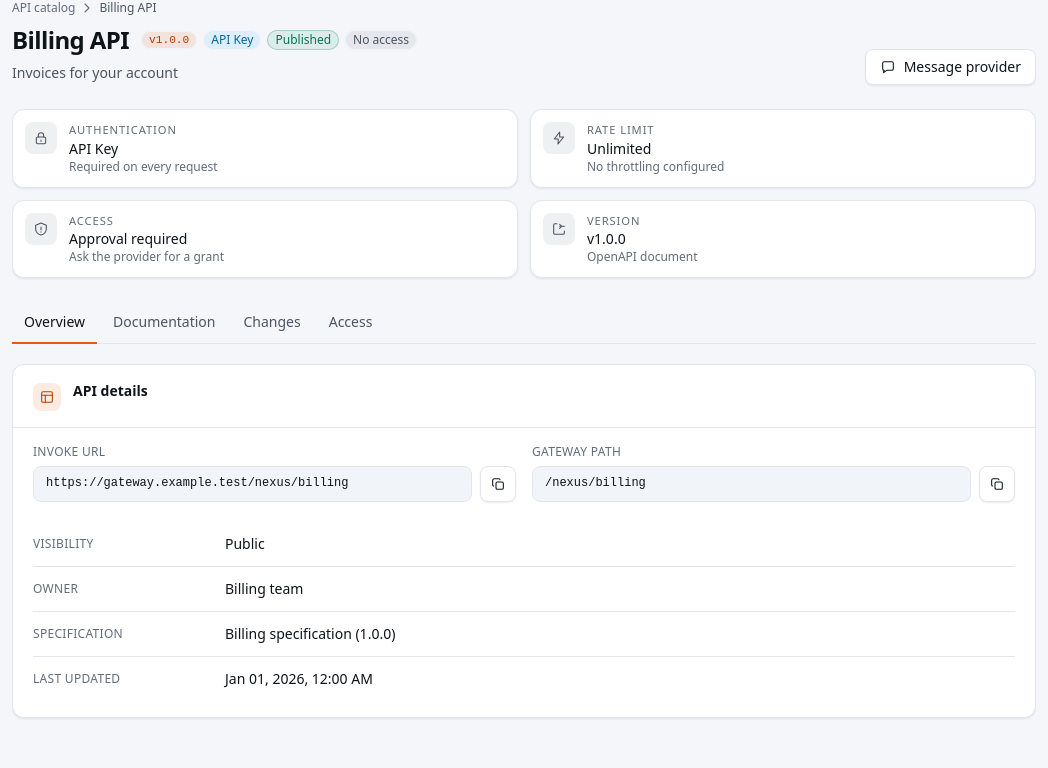
Test: catalog change history (issue #448) › lists each revision, breaking changes first, as text
This screenshot has width=1048, height=768.
Expected: the heading "Billing API" is shown, [12, 24, 129, 56]
Press the mouse on the tab "Changes" at [272, 323], box [232, 302, 313, 344]
(page scrolled)
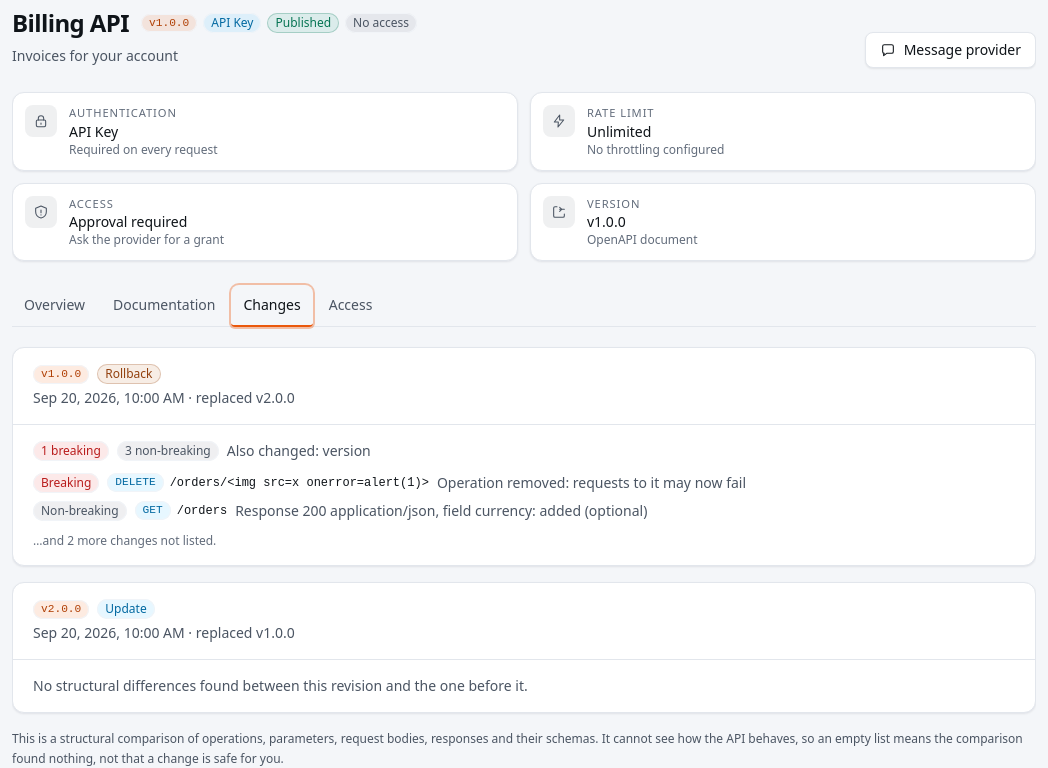
Now the text "Rollback" is shown, box [97, 364, 160, 384]
Now the text "Sep 20, 2026, 10:00 AM · replaced v2.0.0" is shown, box [33, 388, 295, 408]
Now the text "Operation removed: requests to it may now fail" is shown, box [437, 473, 746, 493]
